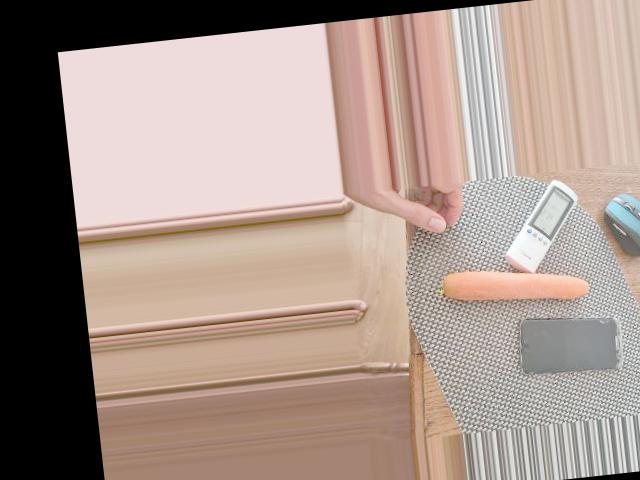carrot: (439, 256, 591, 315)
